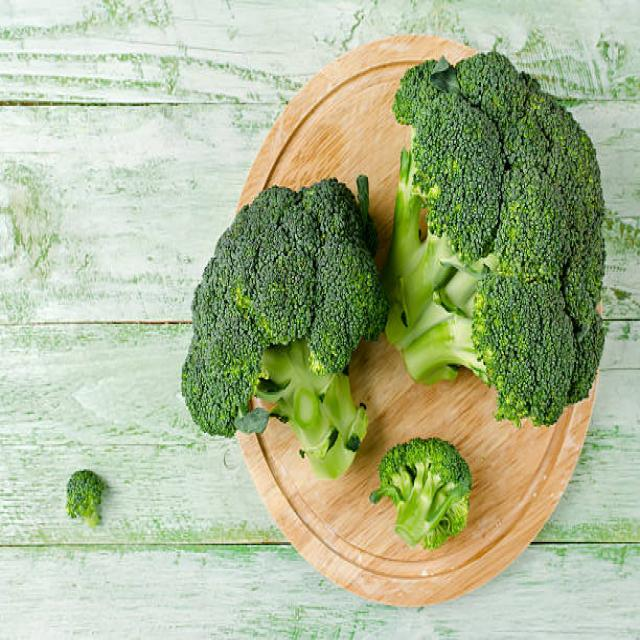broccoli: (388, 18, 612, 414), (168, 174, 375, 486), (386, 443, 484, 558)
